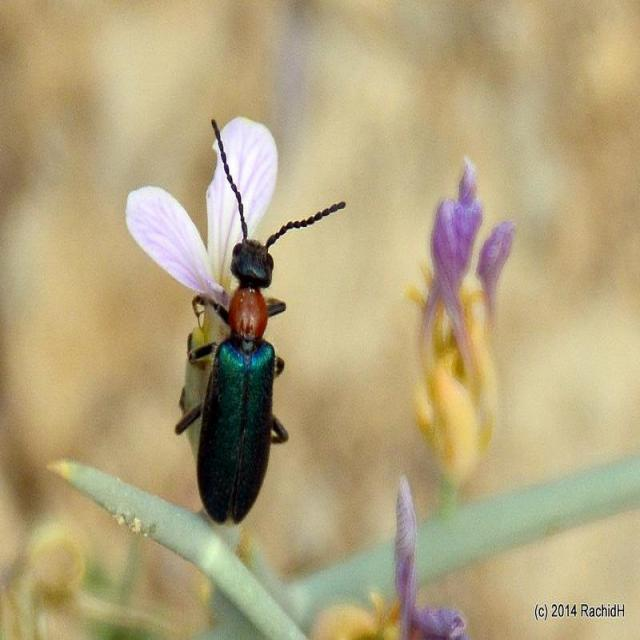BlisterBeetle-Adult-: (173, 103, 350, 538)
